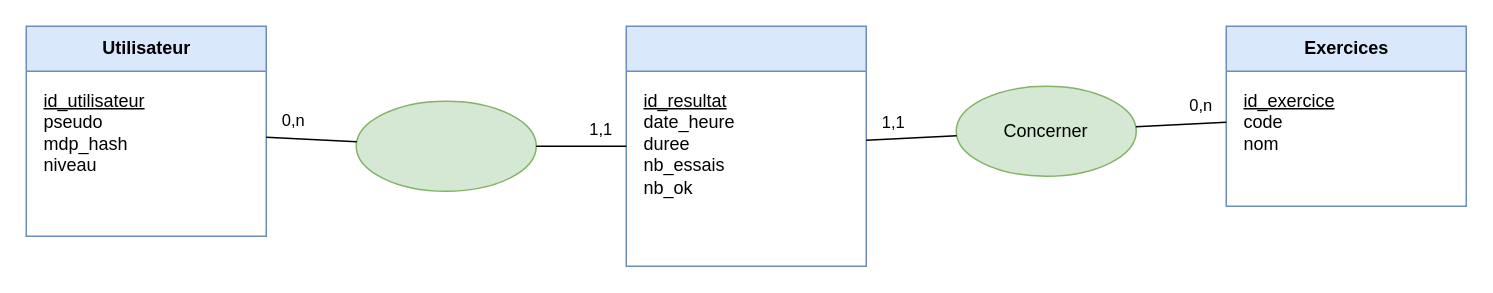
Image size: 1493x293. Some labels were removed from this diagram. The box of each missing label's shape, as (x1, y1, x2, y2) in pixels:
Effectuer: (355, 100, 536, 191)
Résultats: (625, 25, 866, 266)
